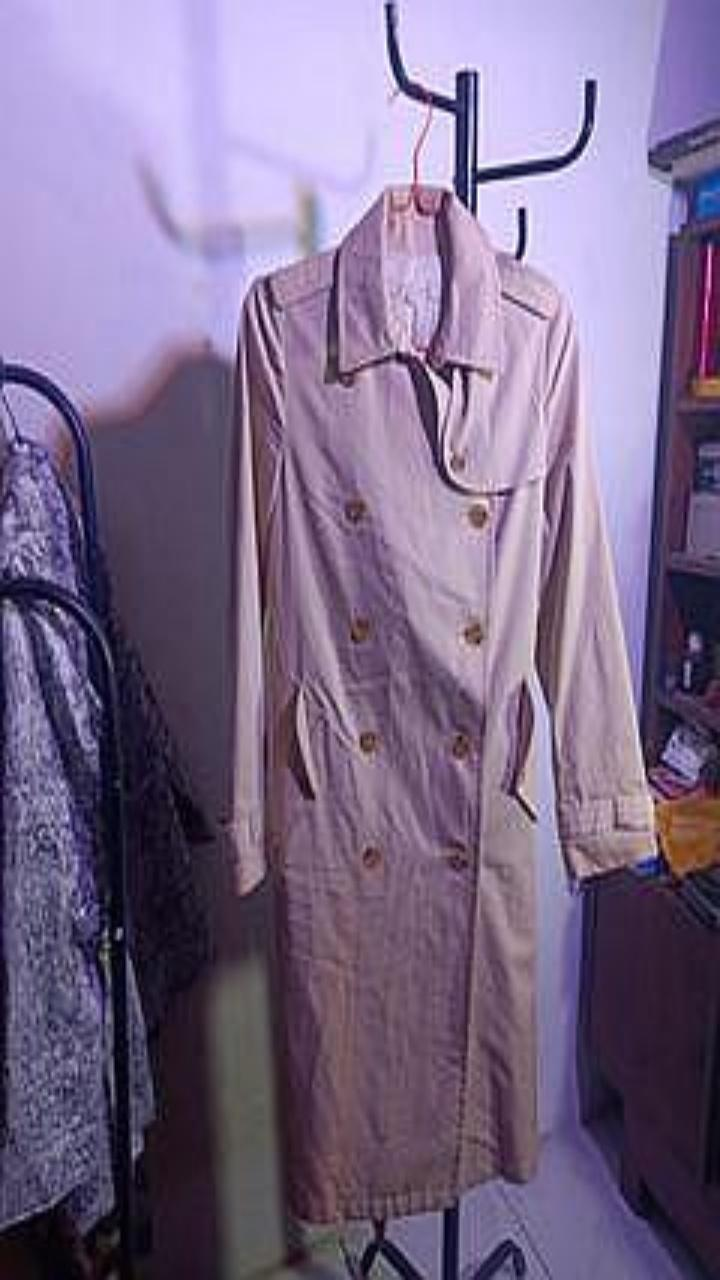Coat: (224, 188, 653, 1221)
